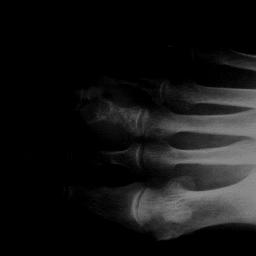cancer: (76, 85, 147, 134)
